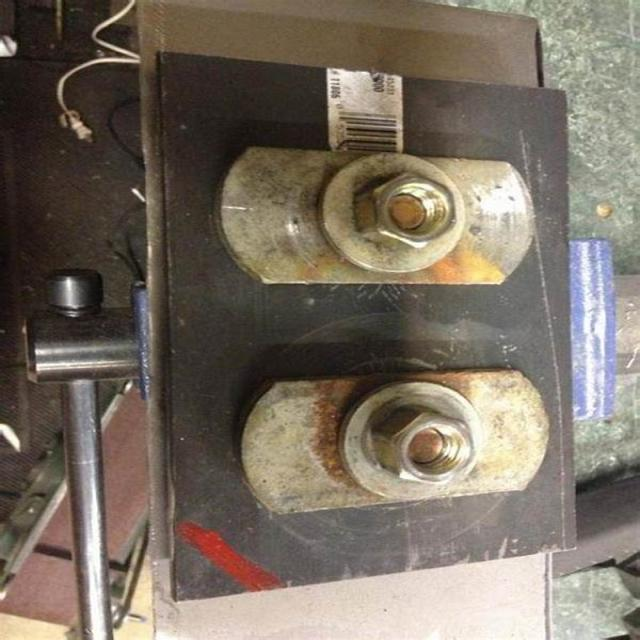bolt nut: (375, 402, 479, 488), (352, 170, 458, 252)
